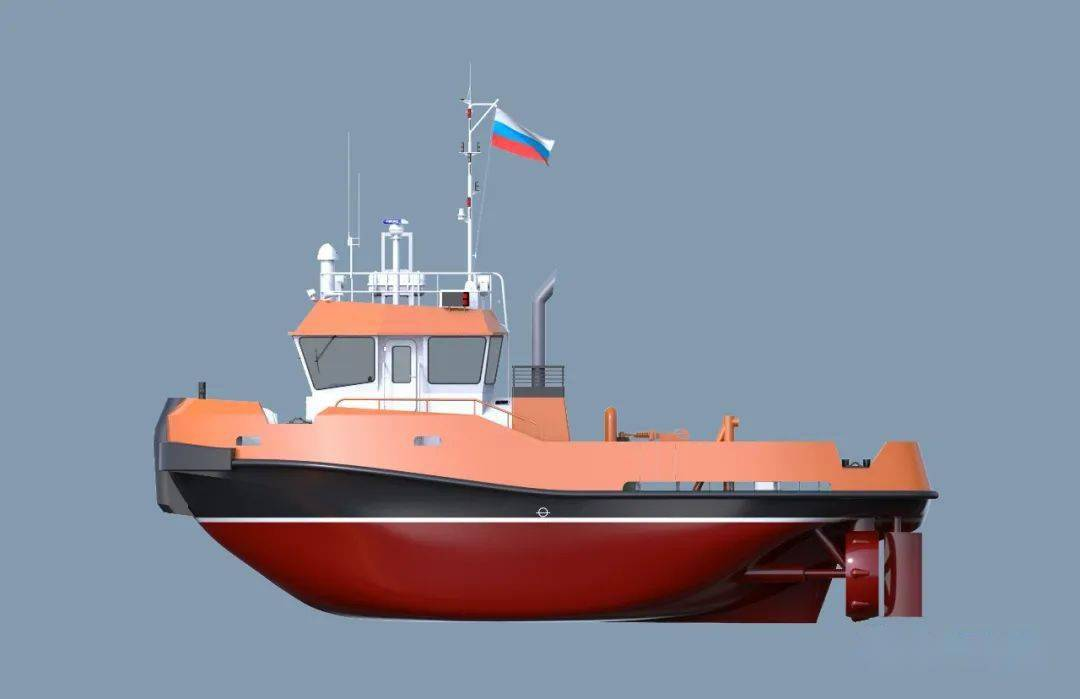otherboat: (151, 82, 952, 616)
